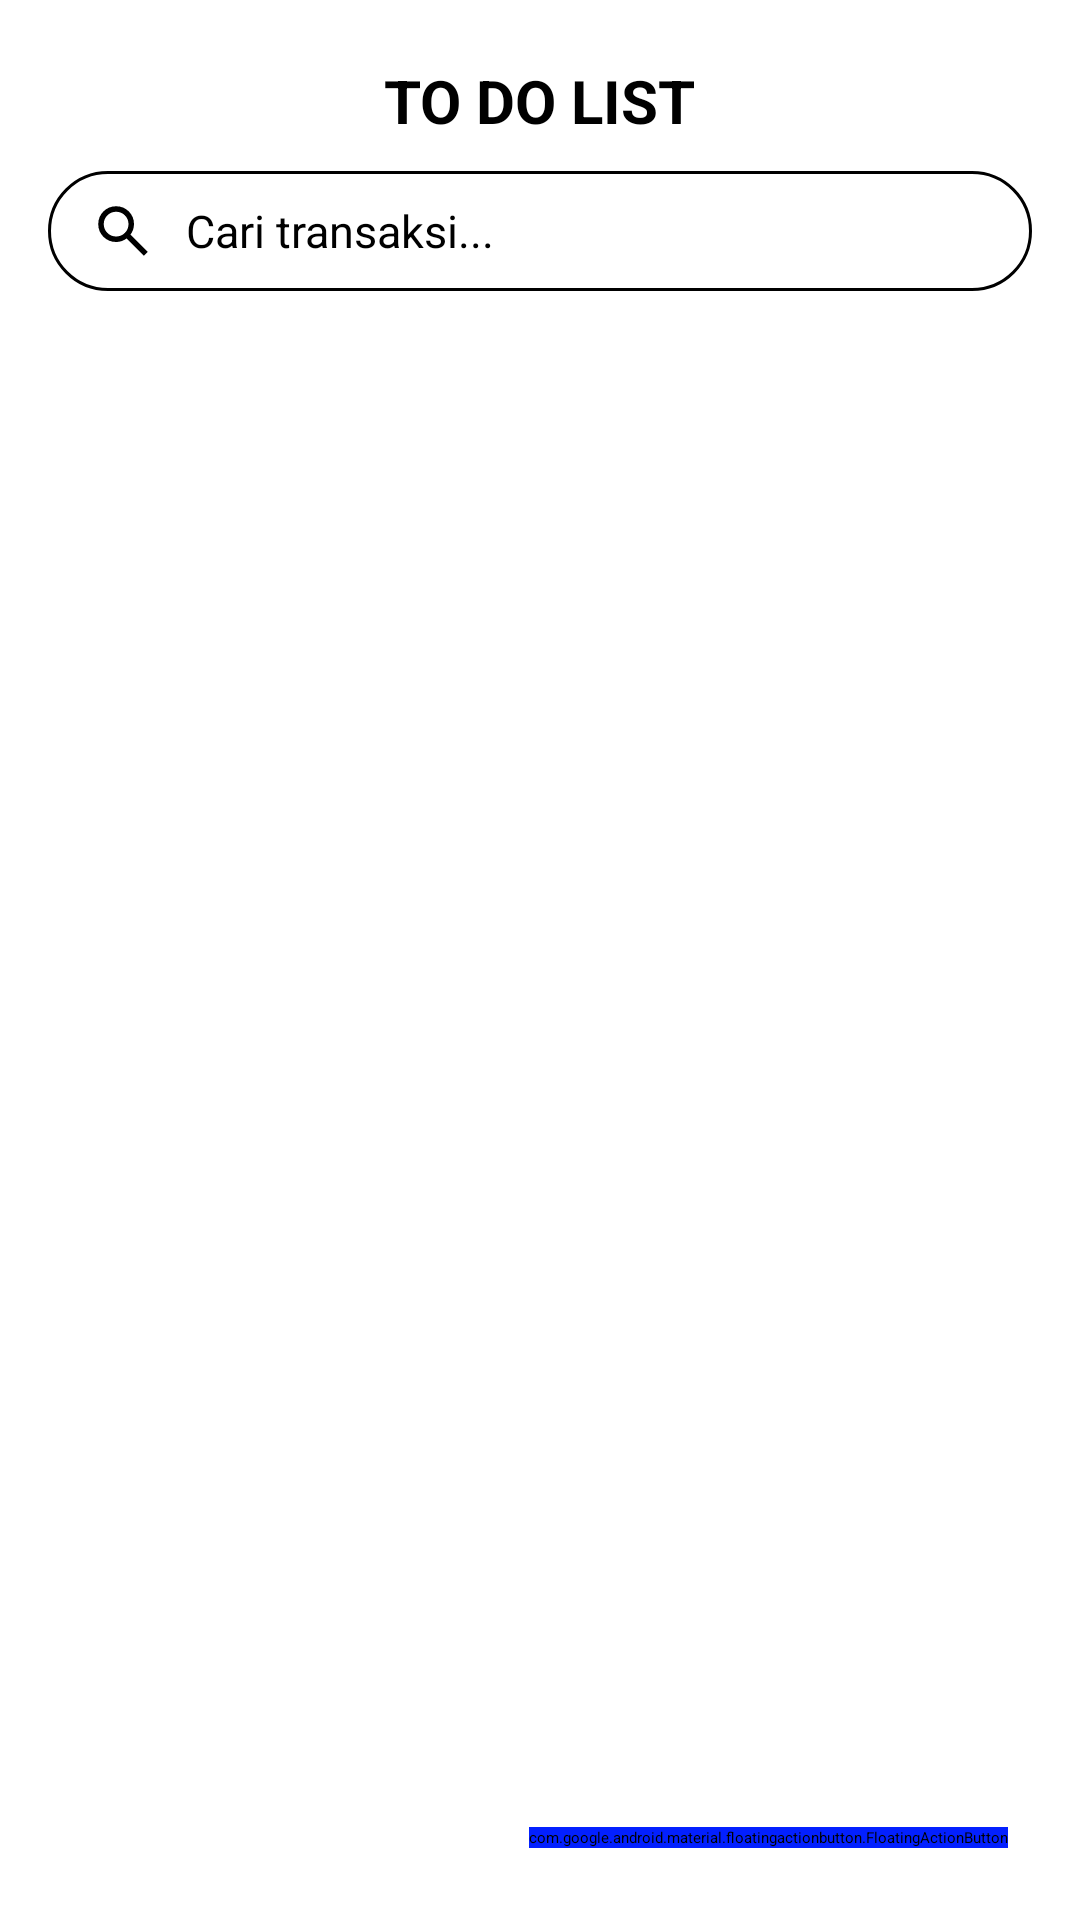

Icon bounding boxes for this 1080 × 1920 phone screenshot, format [x1=x1, y1=y1, x2=x2, y2=y2]:
search: [x1=98, y1=206, x2=148, y2=256]
